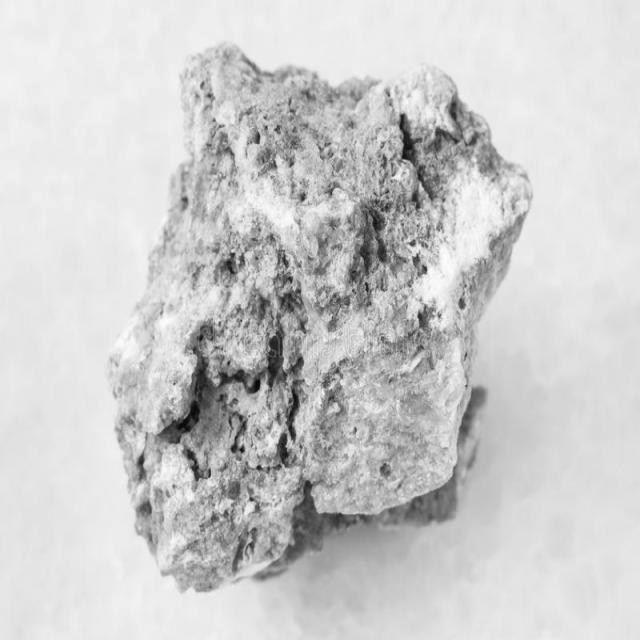Stone: (109, 45, 531, 589)
